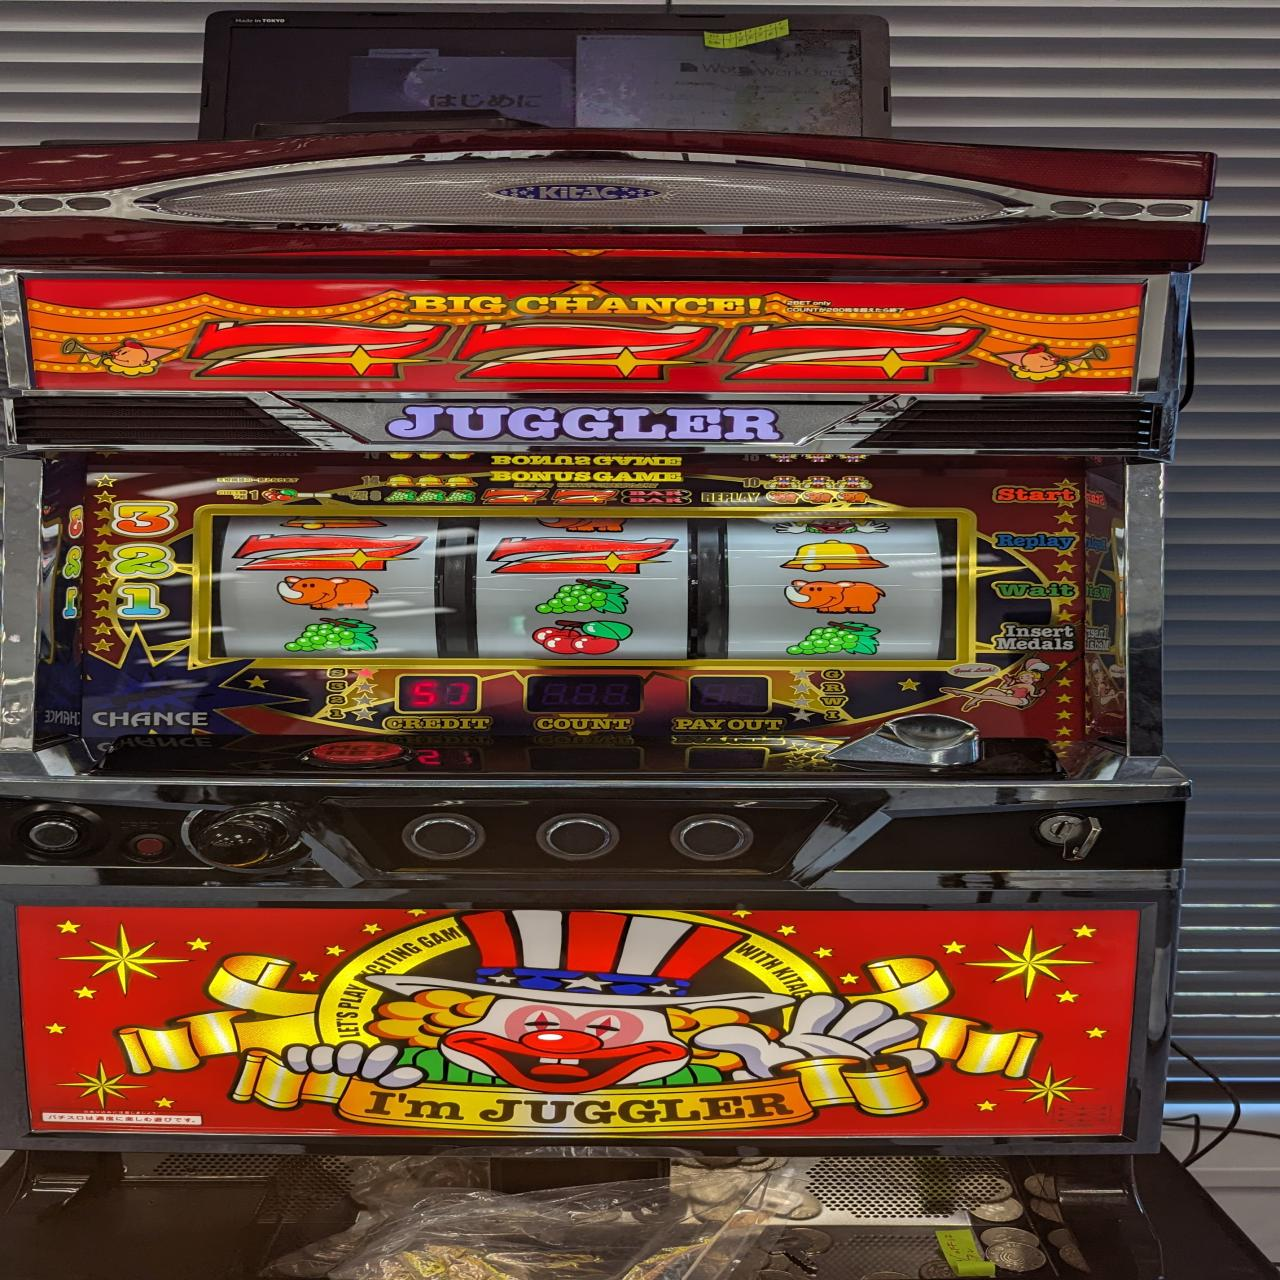7: (485, 535, 679, 580), (231, 531, 429, 573)
Display: (204, 505, 962, 663)
bell: (774, 537, 896, 573)
cherry: (525, 617, 638, 656)
grape: (280, 614, 384, 655), (532, 576, 632, 617), (783, 619, 881, 658)
rhino: (267, 573, 387, 613), (776, 578, 885, 617)
